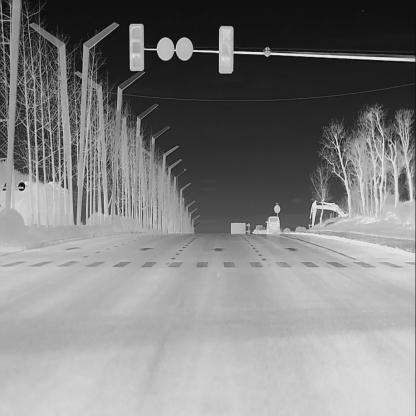car: (266, 215, 280, 234), (254, 224, 266, 235)
